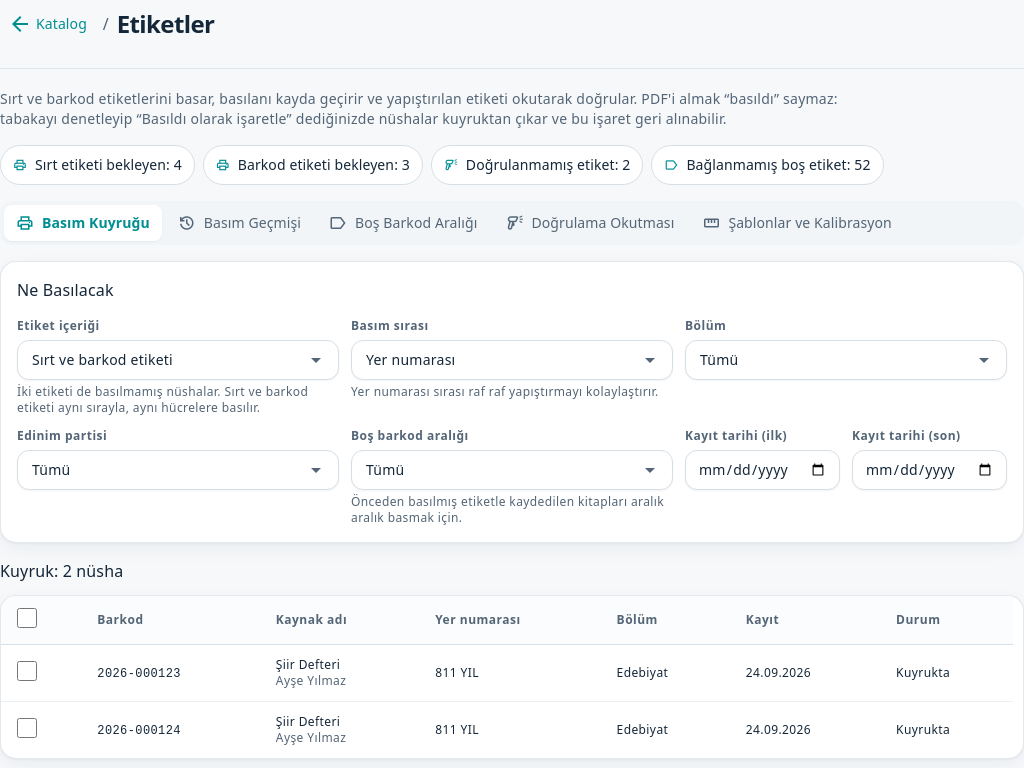
Test case: Etiketler — sayfa › sayaç çipi ilgili sekmeye gider
Click the button "Doğrulanmamış etiket: 2": (537, 165) [431,145,643,185]
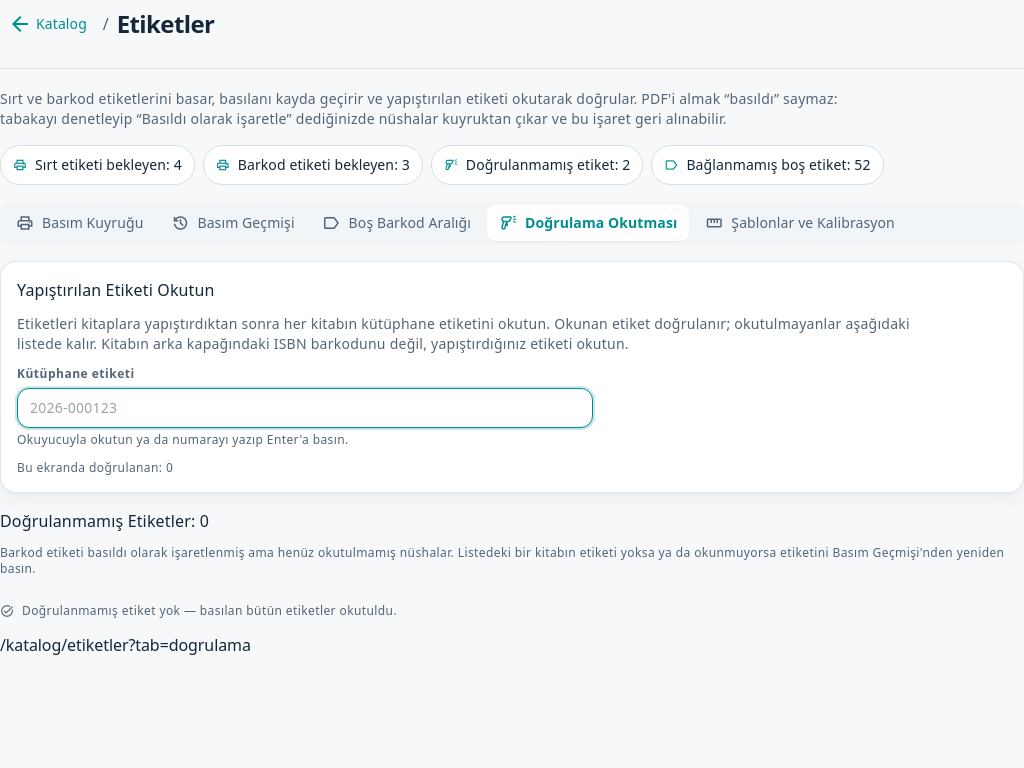
Expected: the text with test id "adres" shows "?tab=dogrulama", [0,634,251,656]
